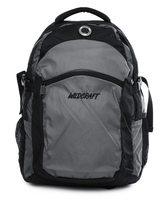bag: (11, 6, 155, 192)
